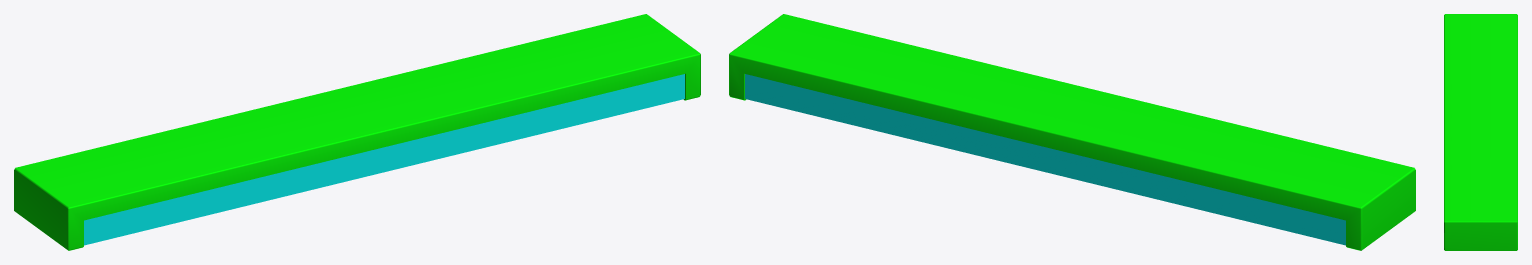
The model's file is LightFixture.fbx.
3 views of the same model, side by side, from view 1: azimuth 30°, elevation 25°; view 2: azimuth 150°, elevation 25°; view 3: azimuth 270°, elevation 25° (orthographic). The views are drawn at different scales.
Parts seen in each view (by area): view 1: LightFixture; view 2: LightFixture; view 3: LightFixture.
Part boxes in pixels (x1,y1,x2,y2): LightFixture: [14, 14, 700, 250]; LightFixture: [729, 14, 1415, 250]; LightFixture: [1444, 14, 1517, 250].
Size of the model in its own units: 208 by 13.82 by 31.19.
